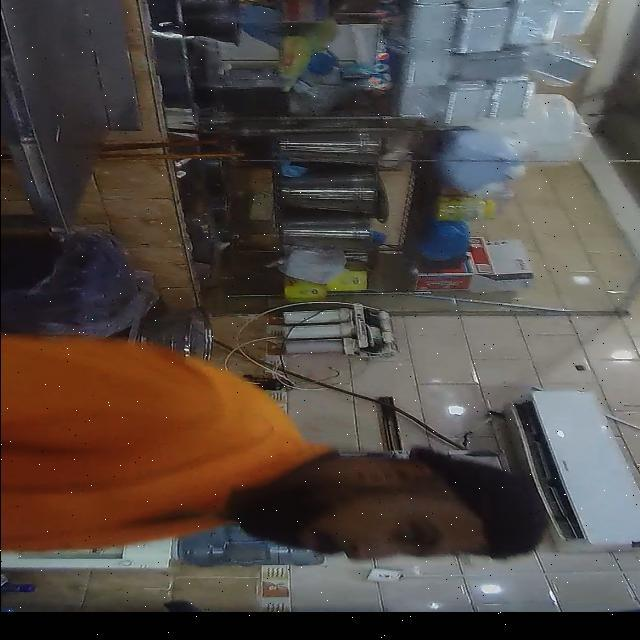face_no_mask: (260, 460, 490, 564)
